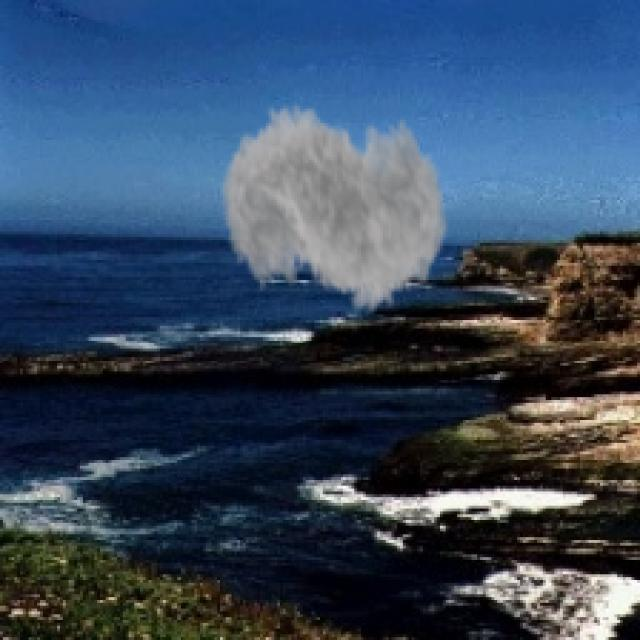Smoke: (221, 77, 448, 332)
